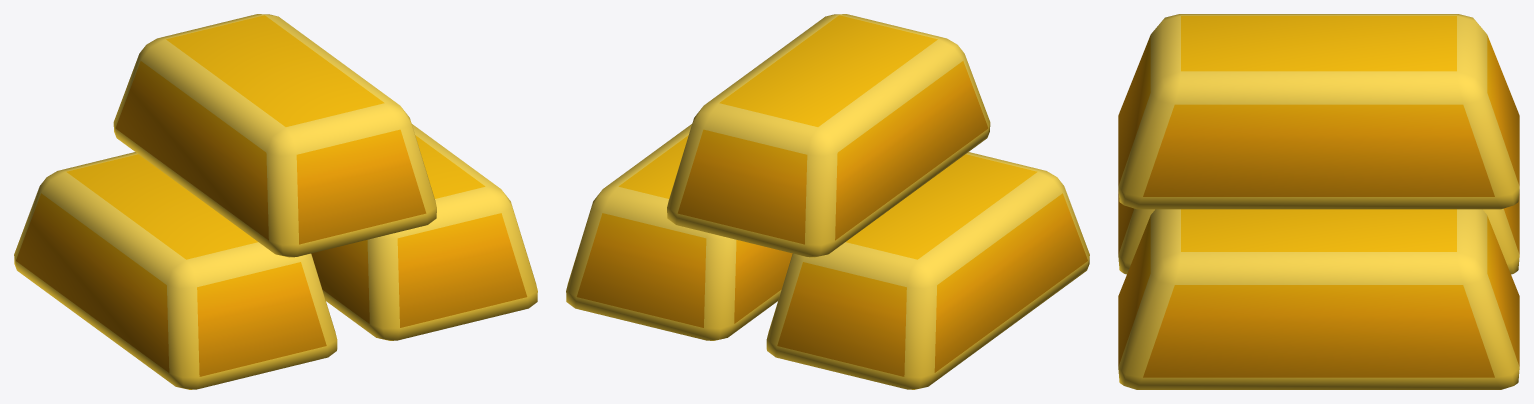
Rendered from Gold-Bar.fbx.
3 renders of one model, left to right at view 1: azimuth 30°, elevation 25°; view 2: azimuth 150°, elevation 25°; view 3: azimuth 270°, elevation 25°, orthographic. The views are drawn at different scales.
Visible parts, largest first — view 1: goldbar; view 2: goldbar; view 3: goldbar.
Boxes of the visible parts, x1,y1,x2,y2 form: goldbar: (14, 14, 537, 389); goldbar: (566, 14, 1089, 389); goldbar: (1118, 14, 1519, 389).
Size of the model in its own units: 140 by 79.81 by 115.
